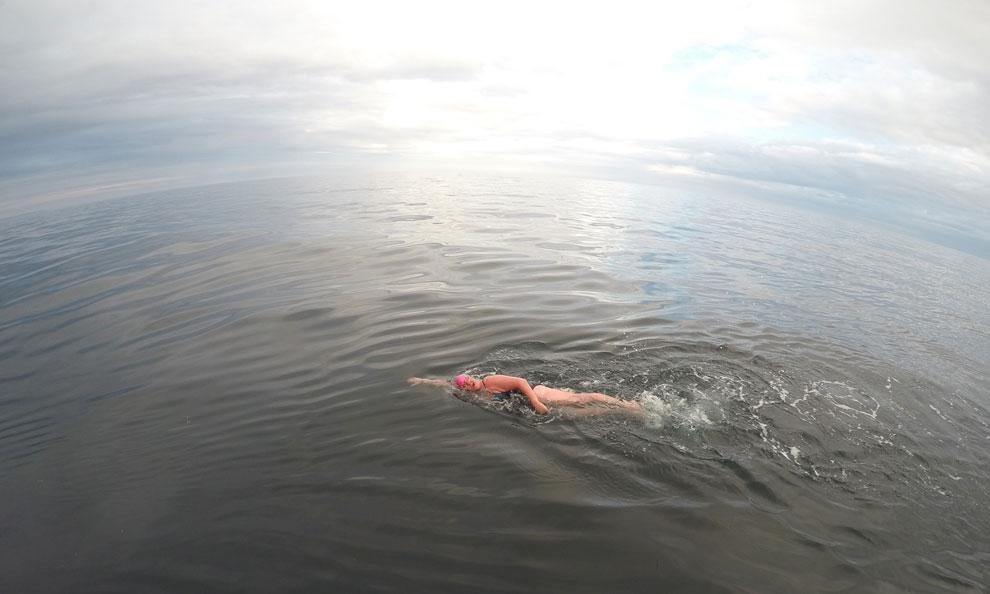swimmer: (404, 357, 645, 425)
